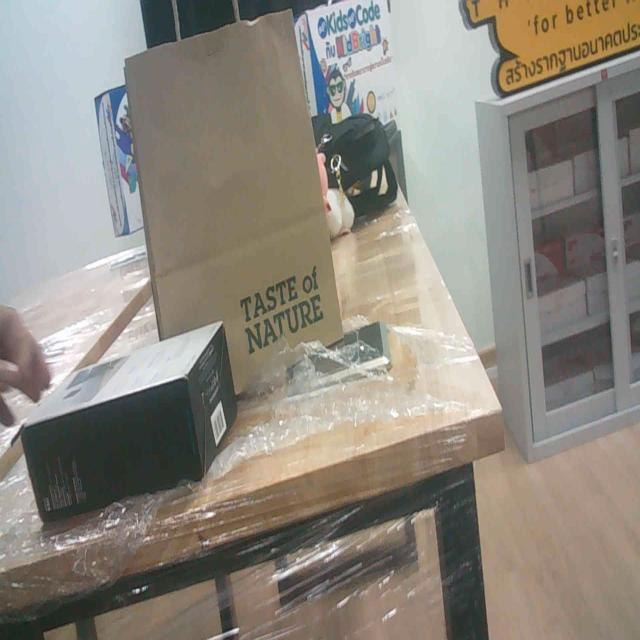bag: (124, 48, 352, 373)
